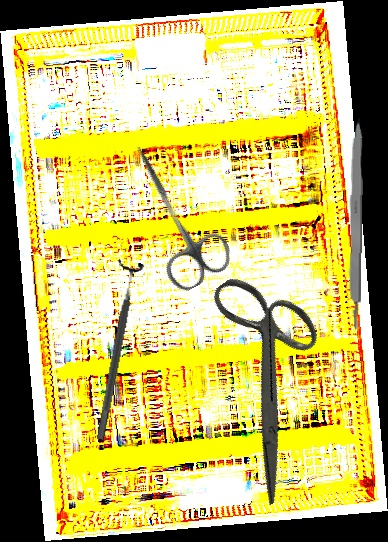Fixation Ring: (86, 259, 146, 442)
Iris Scissors: (146, 253, 387, 507), (105, 131, 239, 297)
Scalpel Handle: (346, 117, 364, 331)
